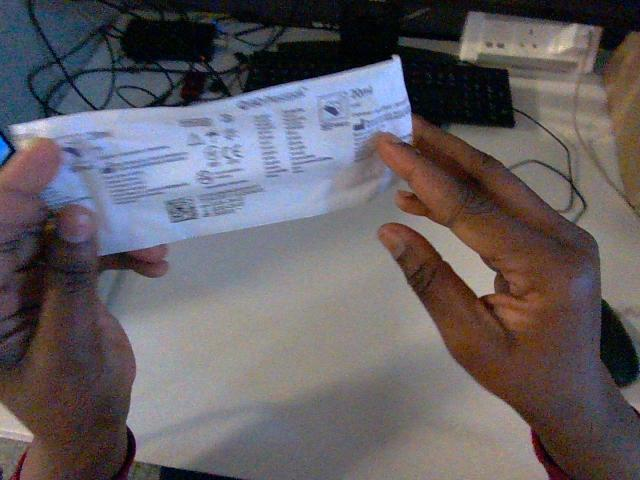syringe: (11, 56, 411, 253)
